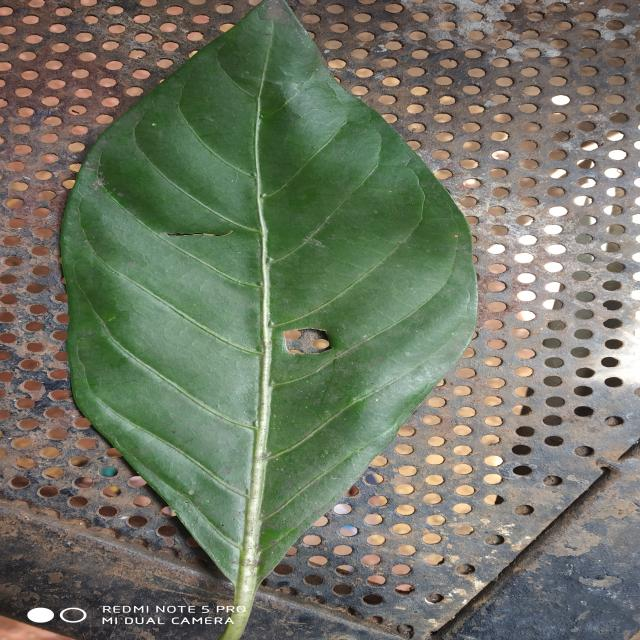anthracnosenooni: (62, 0, 476, 640)
